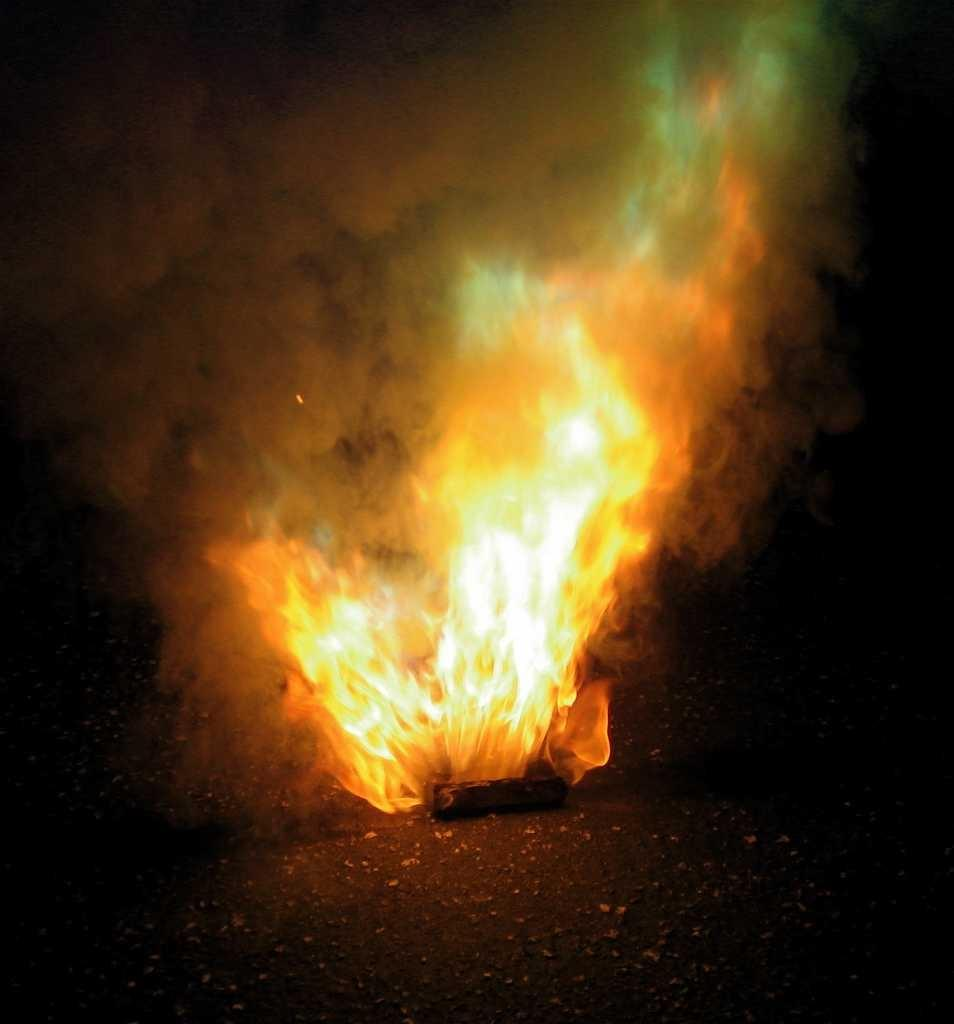fire: (455, 460, 585, 742), (305, 598, 430, 782)
smoke: (45, 30, 393, 452)
